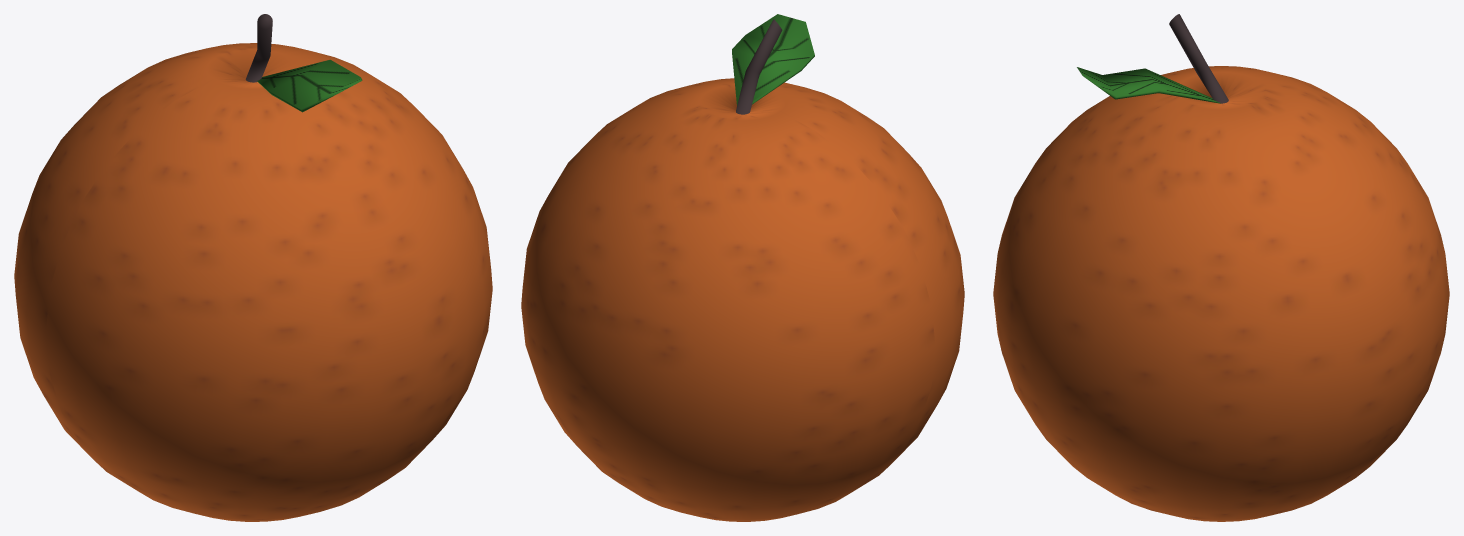
Rendered from orange2.fbx.
3 views of the same model, side by side, from view 1: azimuth 30°, elevation 25°; view 2: azimuth 150°, elevation 25°; view 3: azimuth 270°, elevation 25° (orthographic). The views are drawn at different scales.
Parts seen in each view (by area): view 1: Sphere; view 2: Sphere; view 3: Sphere.
Part boxes in pixels (<box>): Sphere: <box>14,14,492,521</box>; Sphere: <box>521,14,964,521</box>; Sphere: <box>993,14,1449,521</box>.
Bounding box in the file's own units: 200 × 233 × 200.
